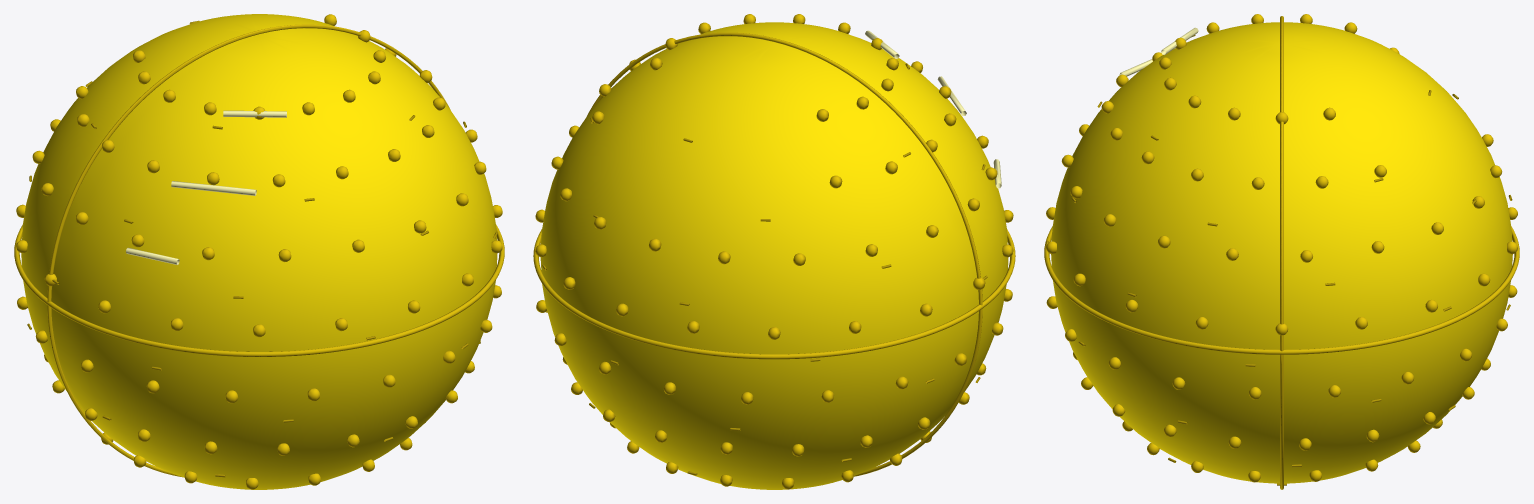
Rendered from softball_gelb_3D_v2.glb.
3 renders of one model, left to right at view 1: azimuth 30°, elevation 25°; view 2: azimuth 150°, elevation 25°; view 3: azimuth 270°, elevation 25°, orthographic. The views are drawn at different scales.
Parts seen in each view (by area): view 1: softball_gelb_3D_v2__web_yellow_smooth_foam_softball_body, softball_gelb_3D_v2__web_yellow_subtle_pebbled_softball_surf, softball_gelb_3D_v2__web_v2_extra_yellow_softball_molded_equ, softball_gelb_3D_v2__web_yellow_glossy_softball_highlight_pa, softball_gelb_3D_v2__web_v2_extra_yellow_softball_pore_shado; view 2: softball_gelb_3D_v2__web_yellow_smooth_foam_softball_body, softball_gelb_3D_v2__web_yellow_subtle_pebbled_softball_surf, softball_gelb_3D_v2__web_v2_extra_yellow_softball_molded_equ, softball_gelb_3D_v2__web_yellow_glossy_softball_highlight_pa; view 3: softball_gelb_3D_v2__web_yellow_smooth_foam_softball_body, softball_gelb_3D_v2__web_yellow_subtle_pebbled_softball_surf, softball_gelb_3D_v2__web_v2_extra_yellow_softball_molded_equ, softball_gelb_3D_v2__web_v2_extra_yellow_softball_pore_shado.
Boxes of the visible parts, x1,y1,x2,y2 form: softball_gelb_3D_v2__web_yellow_smooth_foam_softball_body: [21, 14, 497, 489]; softball_gelb_3D_v2__web_yellow_subtle_pebbled_softball_surf: [16, 14, 502, 489]; softball_gelb_3D_v2__web_v2_extra_yellow_softball_molded_equ: [14, 24, 504, 477]; softball_gelb_3D_v2__web_yellow_glossy_softball_highlight_pa: [126, 110, 286, 264]; softball_gelb_3D_v2__web_v2_extra_yellow_softball_pore_shado: [27, 20, 497, 477]; softball_gelb_3D_v2__web_yellow_smooth_foam_softball_body: [540, 22, 1008, 489]; softball_gelb_3D_v2__web_yellow_subtle_pebbled_softball_surf: [535, 14, 1013, 489]; softball_gelb_3D_v2__web_v2_extra_yellow_softball_molded_equ: [533, 32, 1015, 476]; softball_gelb_3D_v2__web_yellow_glossy_softball_highlight_pa: [865, 30, 1001, 188]; softball_gelb_3D_v2__web_yellow_smooth_foam_softball_body: [1051, 22, 1512, 483]; softball_gelb_3D_v2__web_yellow_subtle_pebbled_softball_surf: [1046, 14, 1517, 482]; softball_gelb_3D_v2__web_v2_extra_yellow_softball_molded_equ: [1044, 16, 1519, 489]; softball_gelb_3D_v2__web_v2_extra_yellow_softball_pore_shado: [1045, 35, 1512, 485].
Size of the model in its own units: 0.3424 by 0.3388 by 0.3398.
